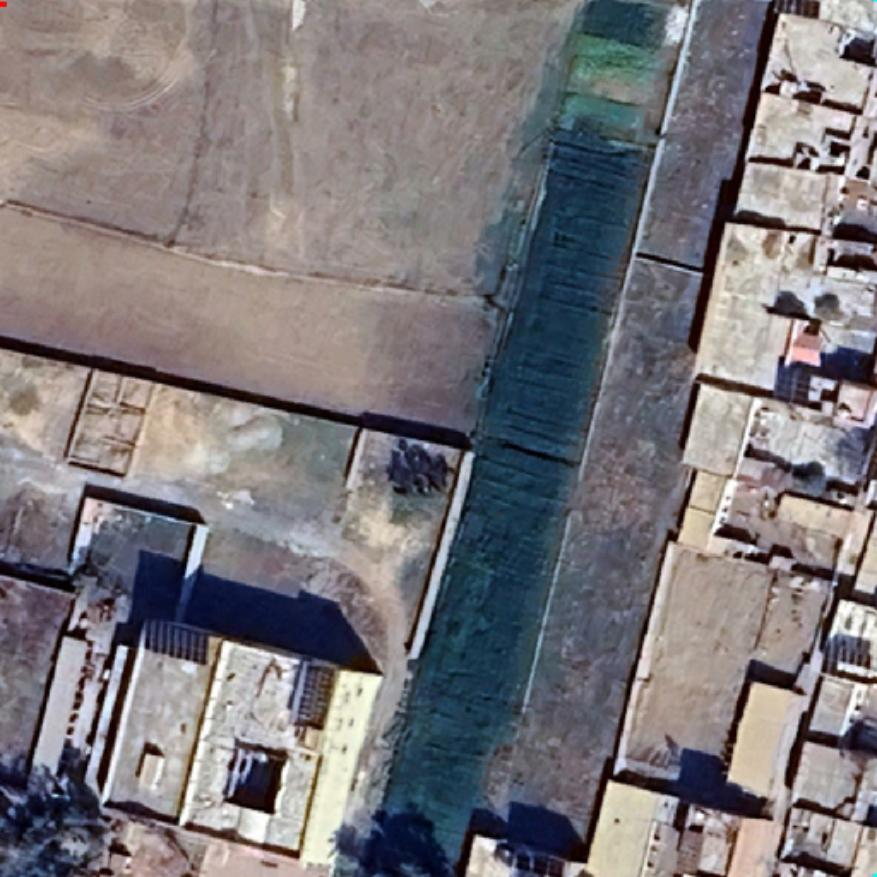Solarpanel: (138, 614, 214, 670), (290, 658, 340, 735), (770, 359, 816, 409), (823, 630, 866, 674)
